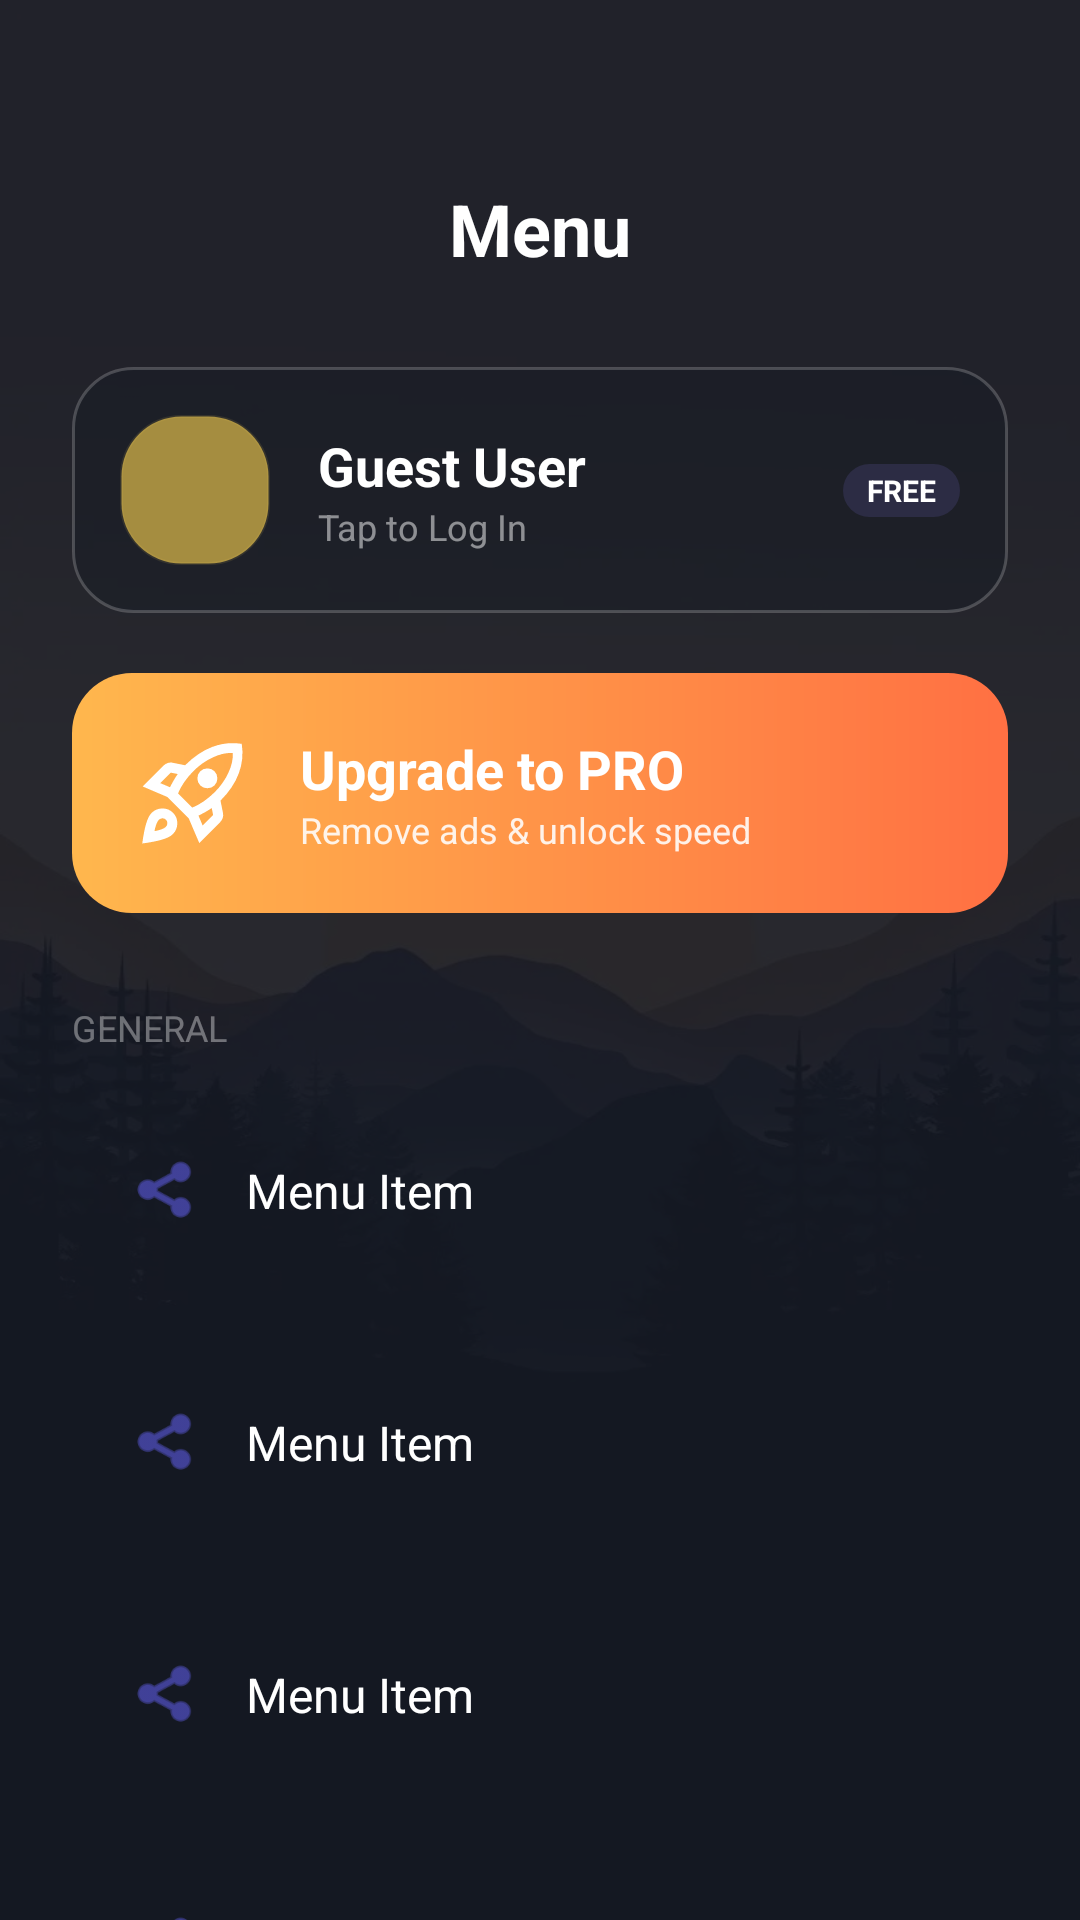

Screen size 1080×1920. Icon name, then its box in pixels as box=[x1, y1, x2, y2]:
rocket: box=[142, 743, 243, 844]
